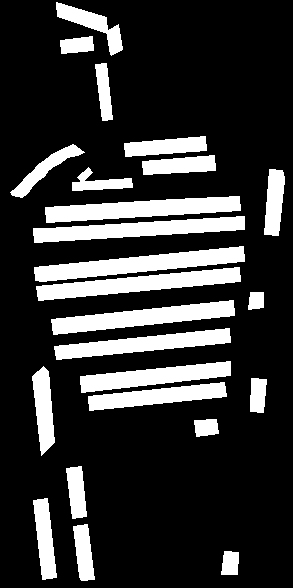parkingspot: (34, 246, 244, 281), (36, 267, 240, 300), (51, 300, 234, 334), (33, 216, 244, 242), (54, 328, 230, 359), (45, 196, 240, 222), (80, 361, 230, 392), (10, 144, 84, 197), (88, 382, 226, 410), (32, 366, 54, 455), (33, 498, 56, 579), (124, 136, 206, 156), (56, 2, 107, 33), (142, 155, 215, 174), (264, 169, 284, 235), (73, 524, 94, 580), (66, 466, 86, 518), (95, 63, 112, 120), (72, 178, 132, 190), (60, 36, 93, 53), (250, 378, 266, 412), (106, 24, 122, 55), (194, 419, 218, 436), (221, 551, 238, 574), (248, 292, 263, 309), (77, 167, 92, 182)
